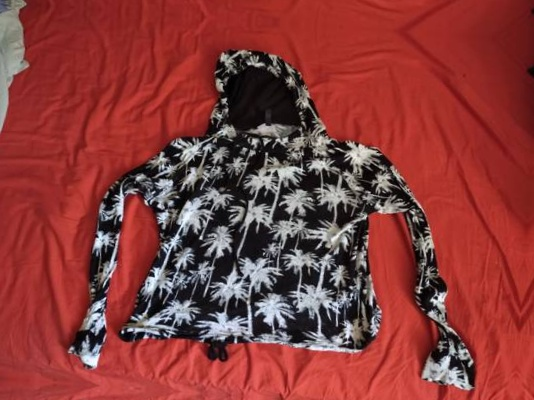Hoodie: (44, 33, 484, 400), (73, 0, 513, 11), (18, 391, 458, 400)
